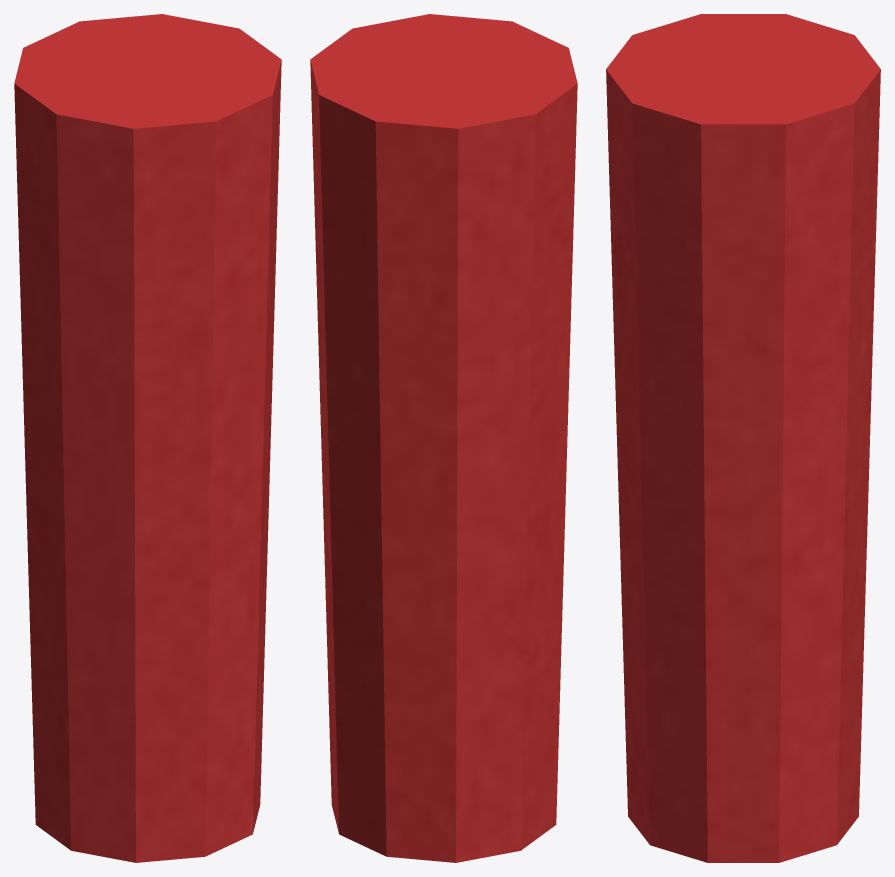
Rendered from JugB_Brazo.obj.
3 renders of one model, left to right at view 1: azimuth 30°, elevation 25°; view 2: azimuth 150°, elevation 25°; view 3: azimuth 270°, elevation 25°, orthographic.
Size of the model in its own units: 0.0951 by 0.3 by 0.1.
1 material, 1 textured.
